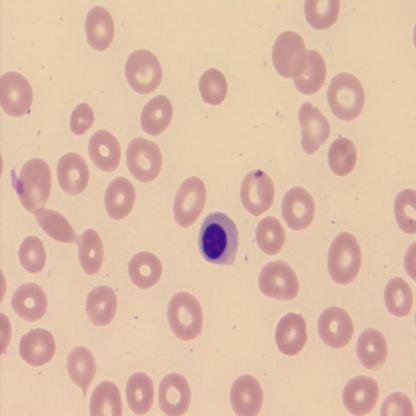NRC: (195, 210, 240, 268)
